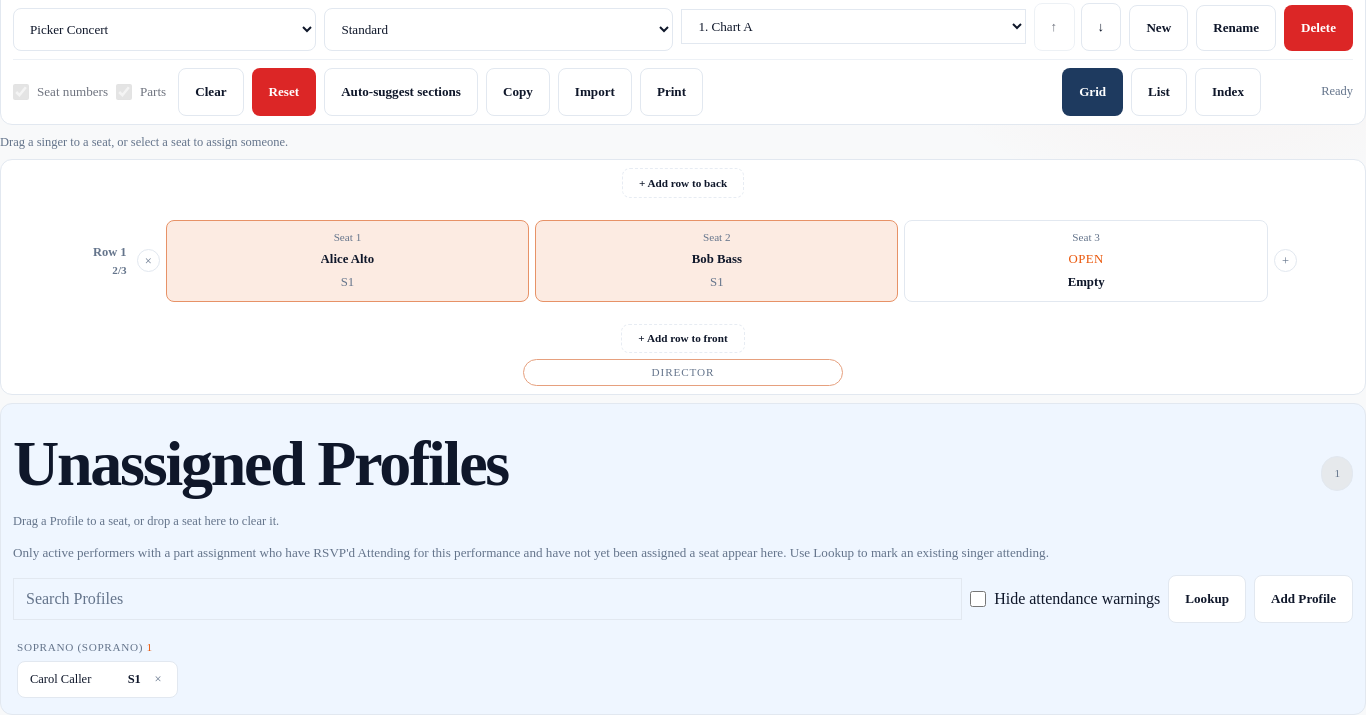
Test: Seat assignment candidate picker › broadens a failed search with the exact query and refreshes candidates after Mark Attending
(page scrolled)
Type " Dave " into the search field named "Search unassigned Profiles" at [488, 599], box [13,578,962,620]
(page scrolled)
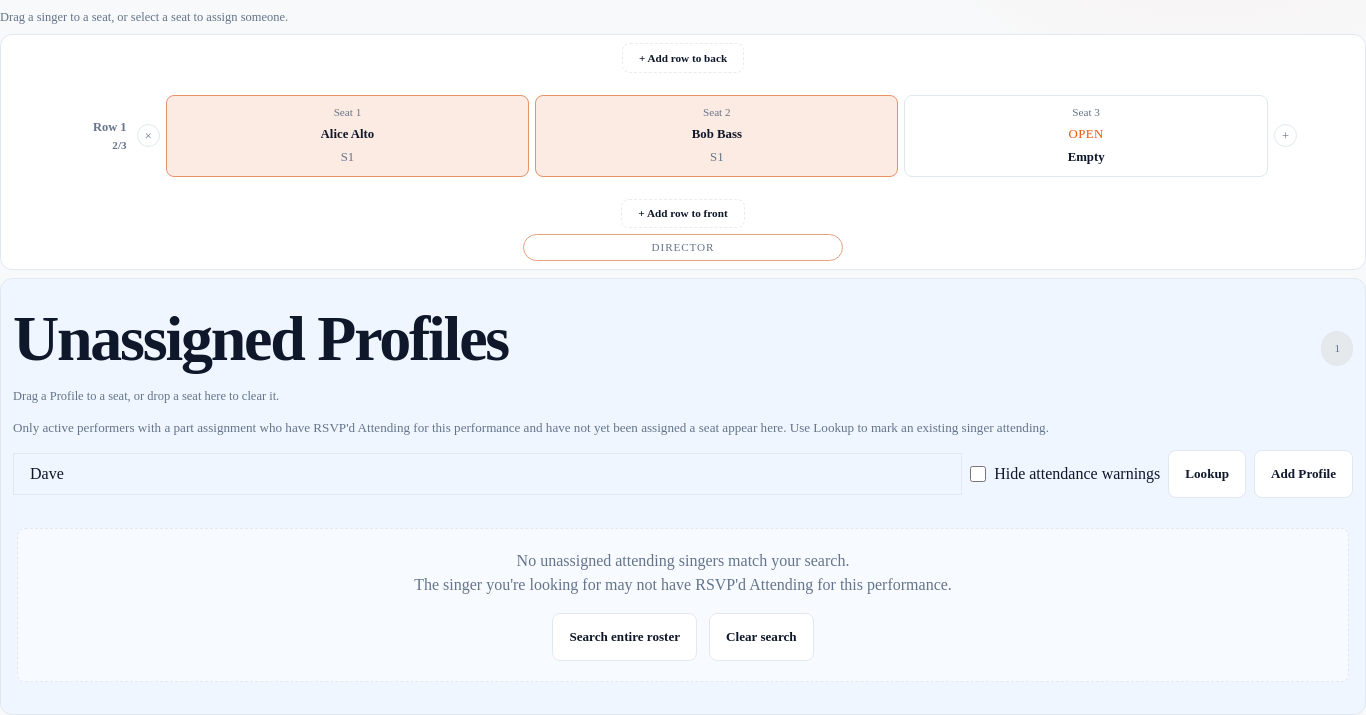
Expected: the text "No unassigned attending singers match your search." is shown, [517,549,849,573]
Click the button "Search entire roster" at [625, 637], box [552,613,697,661]
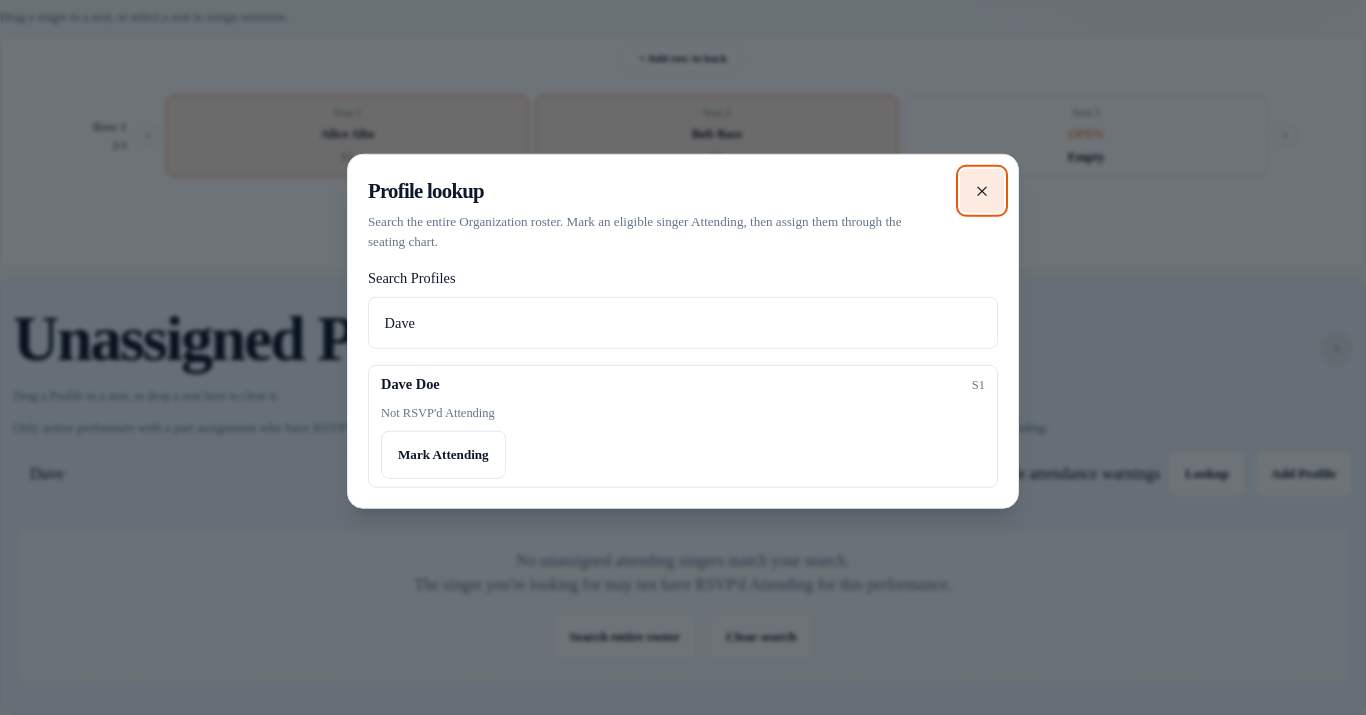
Expected: the search field holds " Dave ", [368,297,998,349]
Expected: the dialog "Profile lookup" shows "Not RSVP'd Attending", [381,406,495,420]
Click the button with aria-label "Mark Dave Doe Attending" at [443, 454], box [381,430,506,478]
(page scrolled)
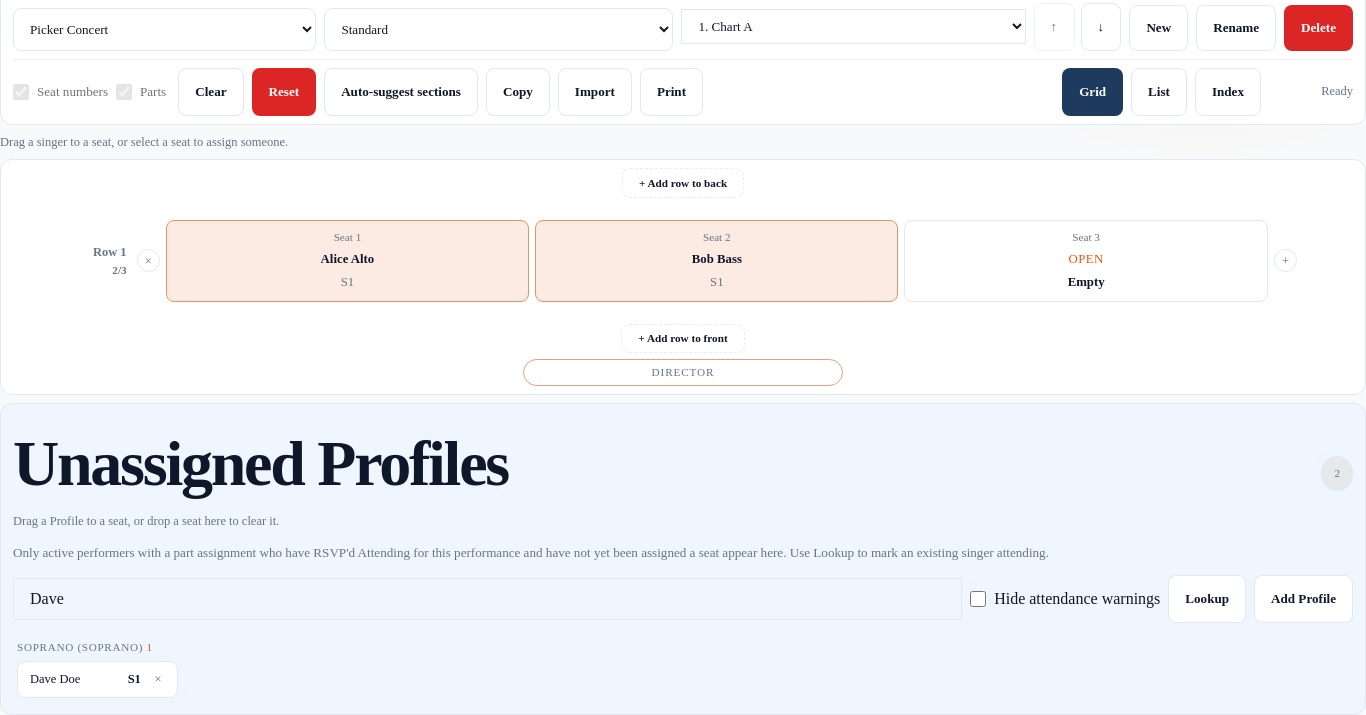
Expected: the heading "Profile lookup" is gone
Expected: the element "Unassigned Profiles" shows "Dave Doe", [30,672,80,686]
Click the button named "Seat 3, empty" at [1086, 261], box [904,220,1268,302]
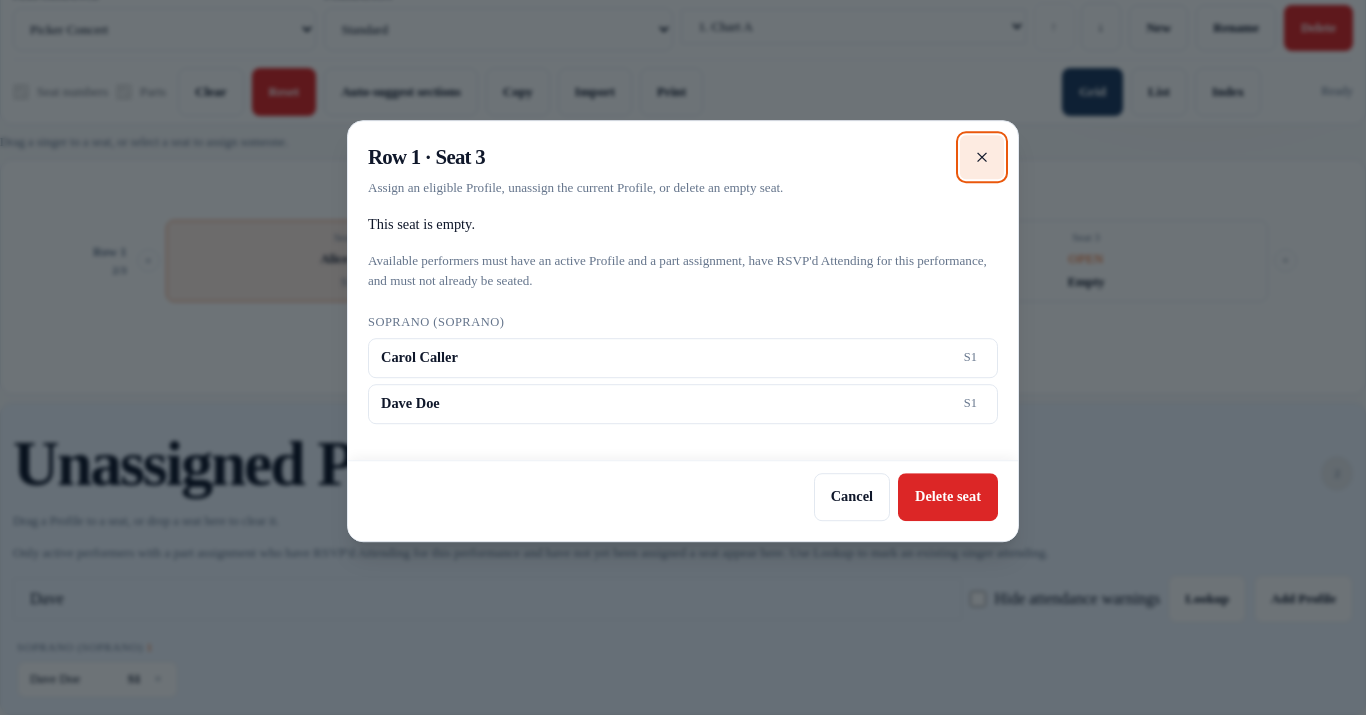
Expected: the button "Dave Doe S1" is shown, [368,384,998,424]
